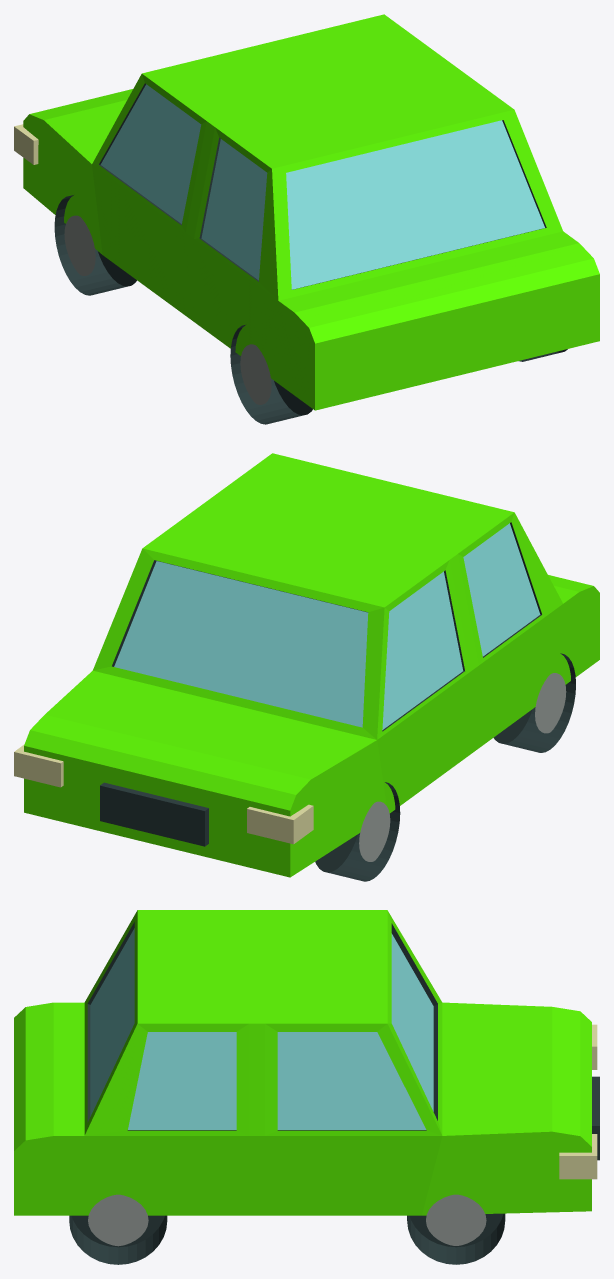
Rendered from green car.fbx.
3 renders of one model, top to bottom at view 1: azimuth 30°, elevation 25°; view 2: azimuth 150°, elevation 25°; view 3: azimuth 270°, elevation 25°, orthographic. The views are drawn at different scales.
Parts seen in each view (by area): view 1: Cube; view 2: Cube; view 3: Cube.
Boxes of the visible parts, left/top/right/bottom form: Cube: left=14, top=14, right=599, bottom=424; Cube: left=14, top=453, right=599, bottom=881; Cube: left=14, top=910, right=599, bottom=1264.
Size of the model in its own units: 207 by 160 by 371.
